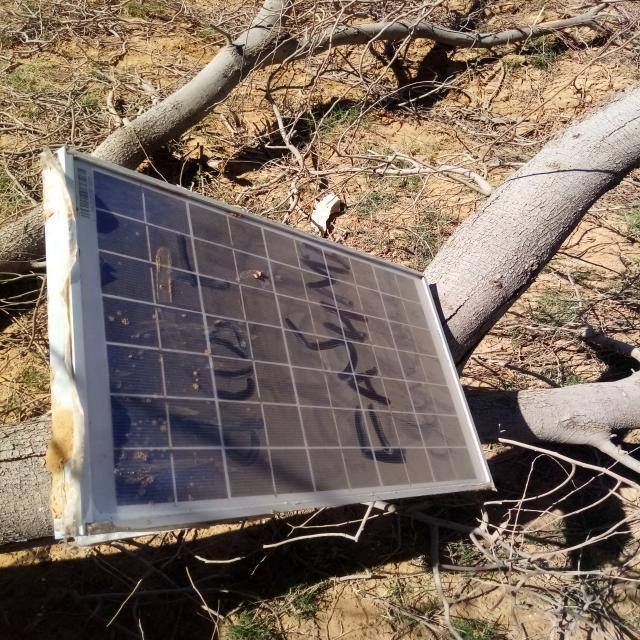faulty: (68, 152, 492, 532)
